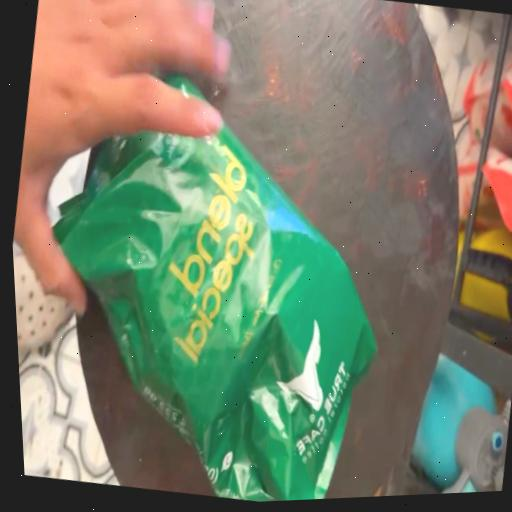cafe_xay: (55, 128, 375, 502)
